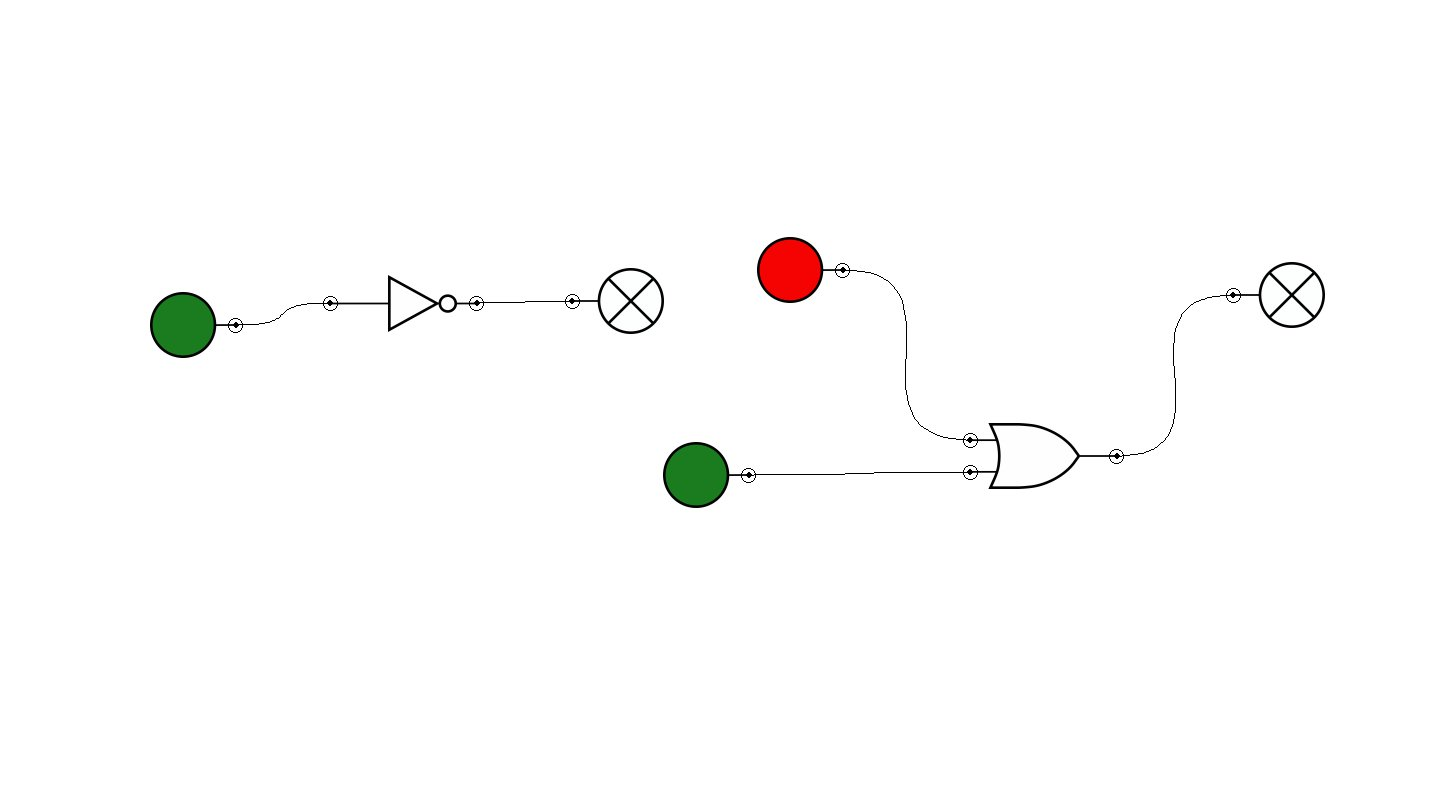bulb: (565, 268, 664, 334), (1226, 262, 1325, 328)
not: (323, 275, 484, 332)
or: (963, 423, 1124, 489)
switch_False: (757, 237, 850, 303)
switch_True: (663, 442, 756, 508), (150, 292, 243, 358)
